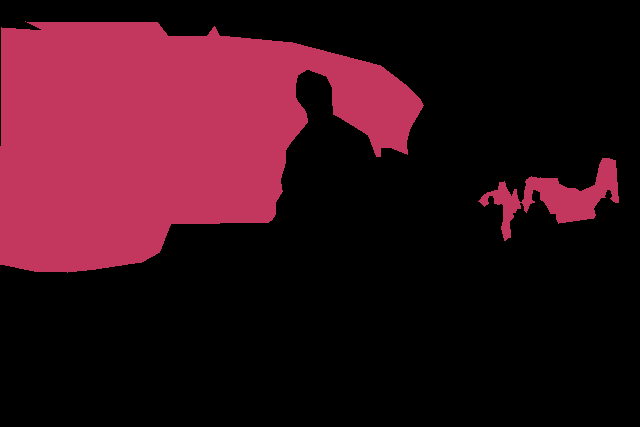Airplane: (0, 21, 423, 273), (478, 158, 618, 241)
